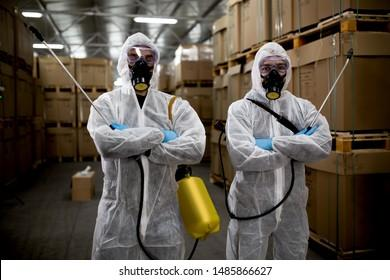gloves: (293, 123, 320, 134), (160, 129, 180, 142), (255, 138, 273, 150), (112, 122, 130, 130)
